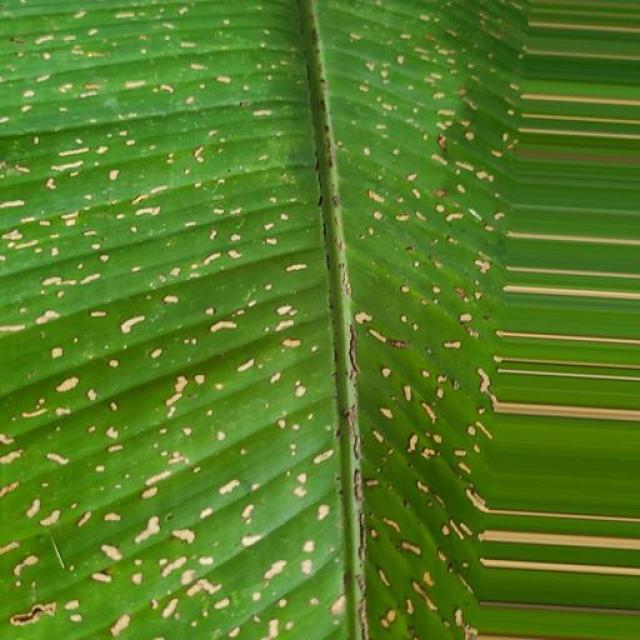Black_rot: (10, 1, 535, 640)
